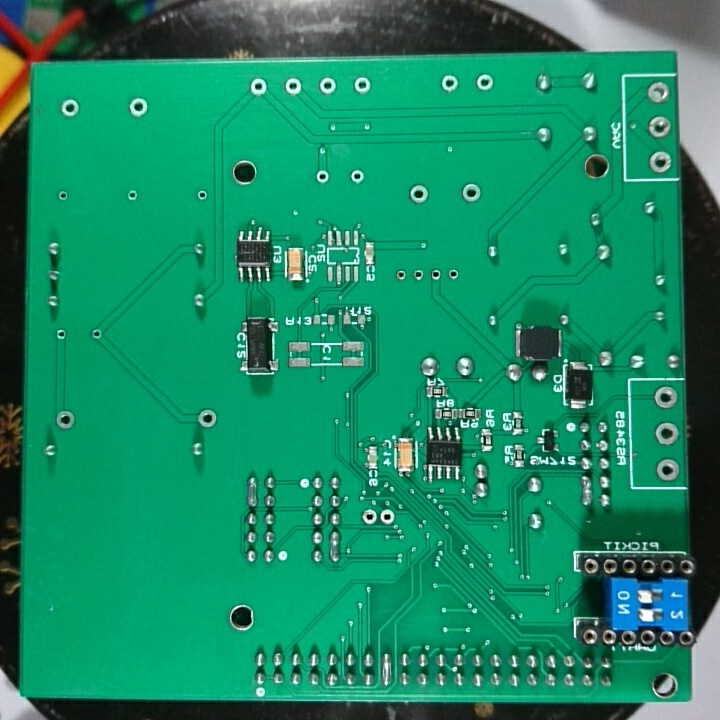F: (653, 383, 679, 411), (653, 420, 679, 446), (647, 113, 673, 139), (195, 406, 221, 432), (647, 149, 675, 173), (654, 456, 680, 481), (53, 407, 77, 433), (645, 80, 669, 103), (59, 97, 83, 120), (407, 183, 430, 206), (127, 96, 150, 119), (316, 74, 337, 97), (247, 77, 270, 98), (379, 505, 399, 529), (460, 182, 481, 204), (353, 75, 374, 97), (283, 76, 304, 98), (474, 72, 496, 92), (439, 72, 460, 92), (359, 506, 379, 527), (349, 166, 367, 187), (314, 166, 332, 186), (88, 326, 104, 344), (445, 267, 461, 283), (427, 266, 443, 282), (410, 266, 425, 283), (194, 186, 209, 203), (53, 326, 67, 343), (394, 268, 409, 283), (125, 187, 139, 203), (55, 187, 69, 202)
P: (244, 473, 263, 507), (327, 531, 344, 565), (379, 652, 395, 687), (579, 476, 594, 507)
